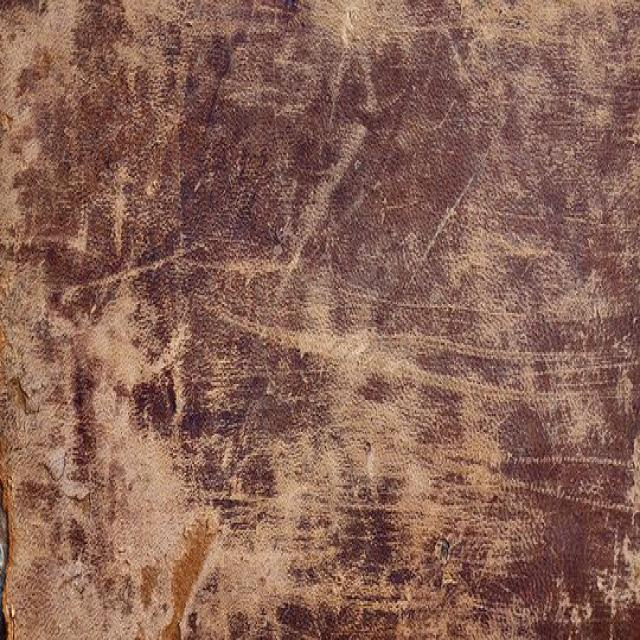Hole: (110, 503, 246, 626)
Rotten surface: (284, 309, 490, 539), (36, 272, 178, 466)
